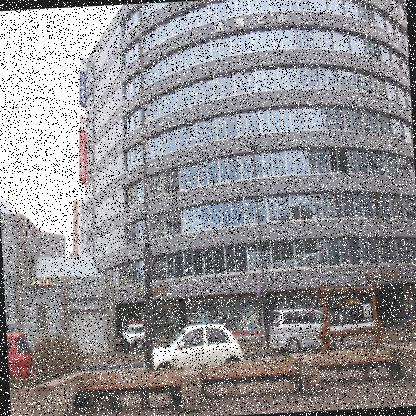Car: (140, 323, 242, 370), (268, 306, 345, 352), (6, 332, 36, 380), (118, 318, 146, 353)
